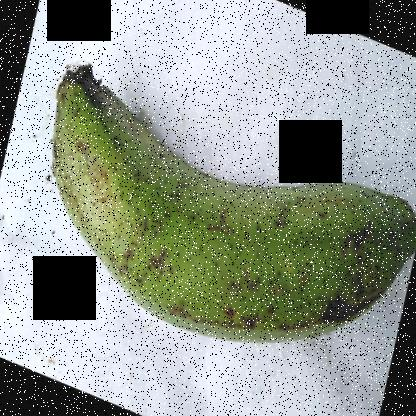unripe: (47, 54, 416, 361)
